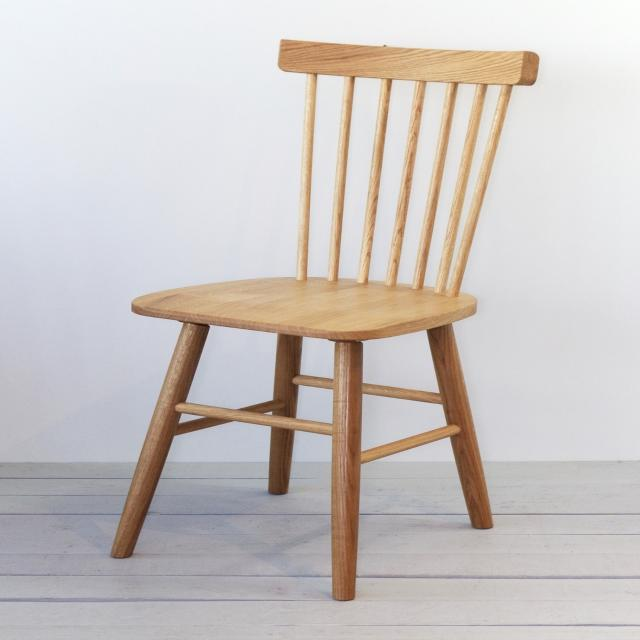Chair: (106, 36, 549, 605)
